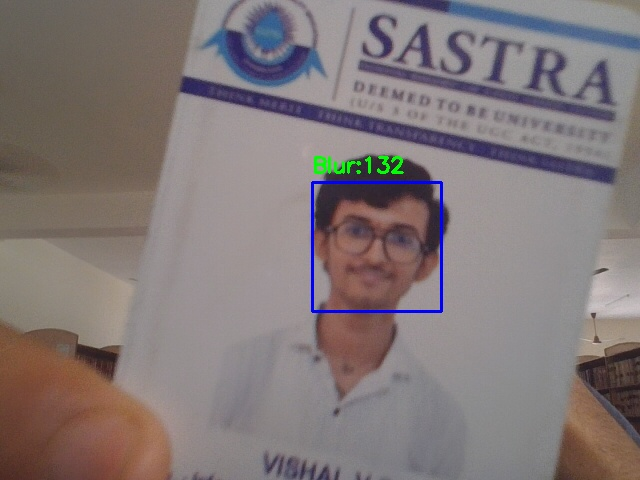fake: (312, 182, 441, 311)
